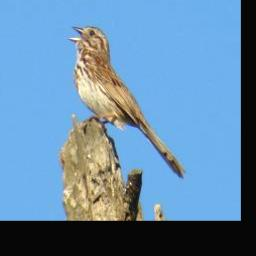Sparrow: (69, 23, 190, 181)
